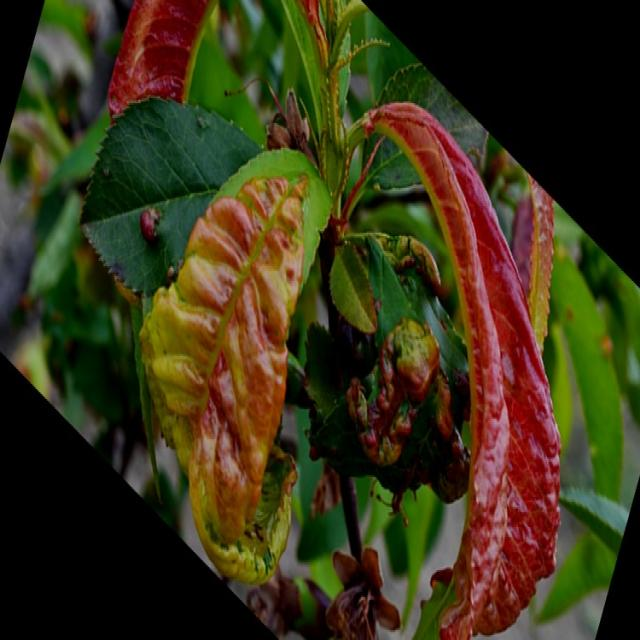peach_leaf_curl: (353, 98, 562, 637), (144, 162, 342, 572)
